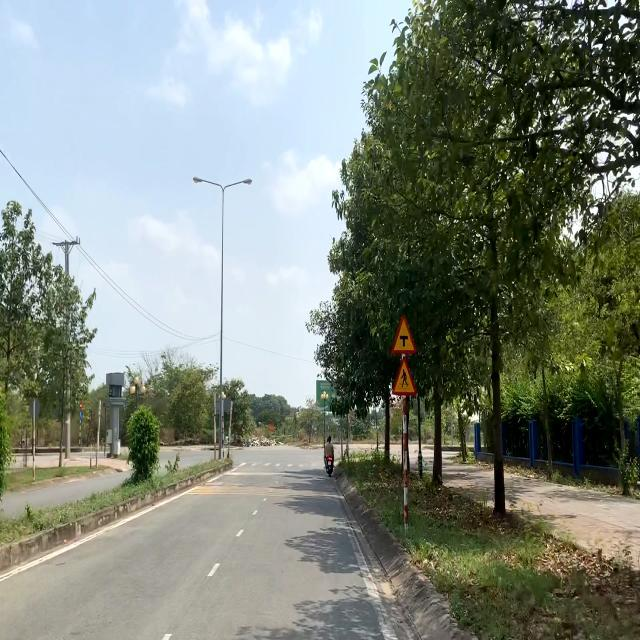Duong giao nhau cung cap: (391, 314, 417, 356)
Nguoi di bo cat ngang: (390, 354, 418, 396)
